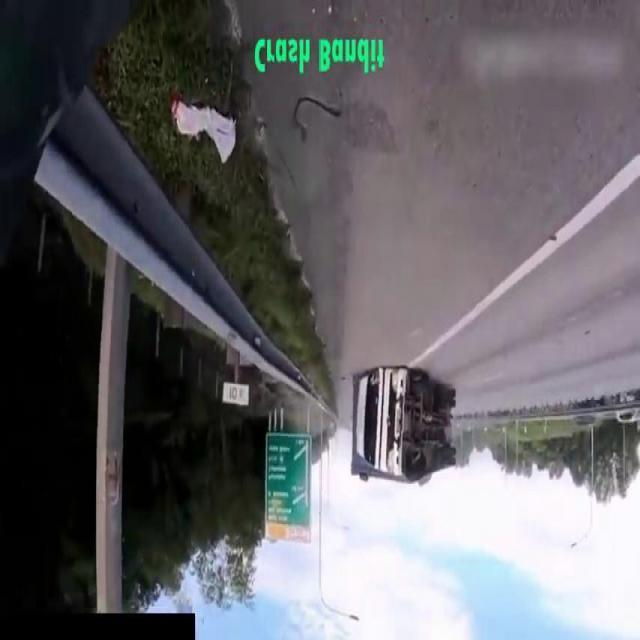severe: (346, 360, 463, 500)
